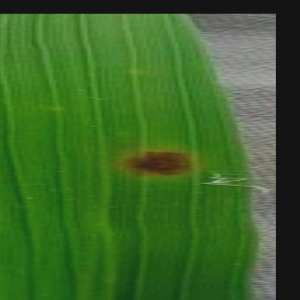Bacterial_Leaf_Blight: (114, 135, 213, 189)
